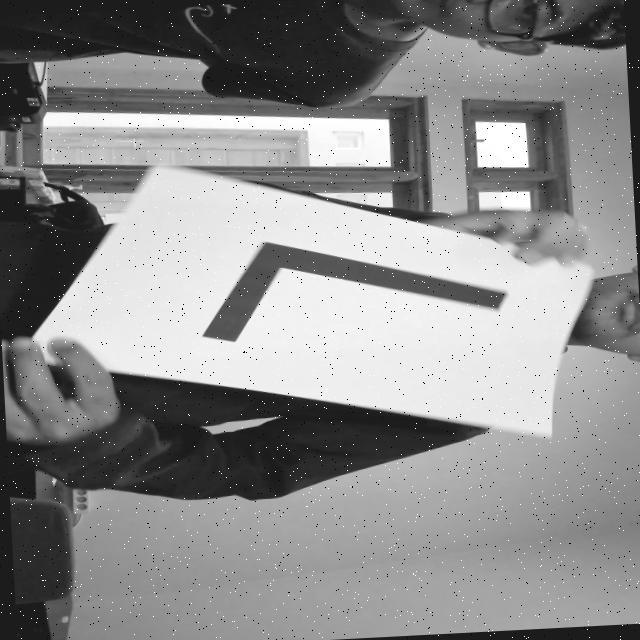l: (183, 209, 535, 369)
